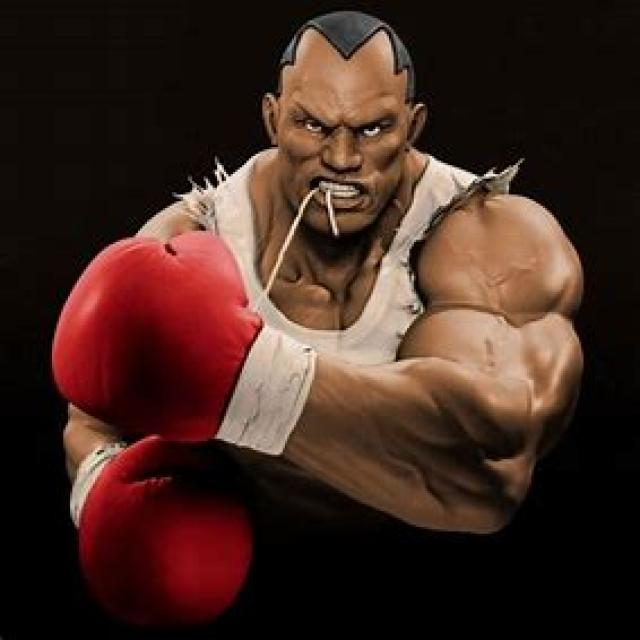fight: (36, 40, 617, 583)
